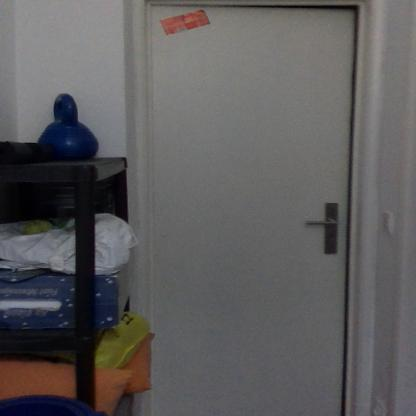door: (149, 2, 348, 416)
lever: (295, 219, 343, 228)
